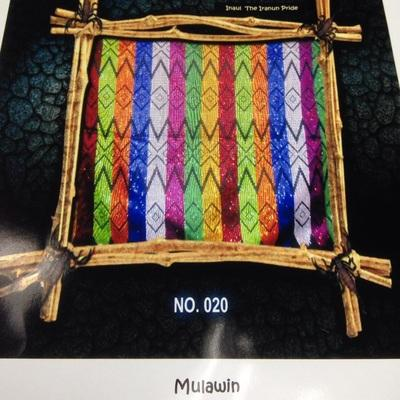malong: (69, 38, 337, 260)
